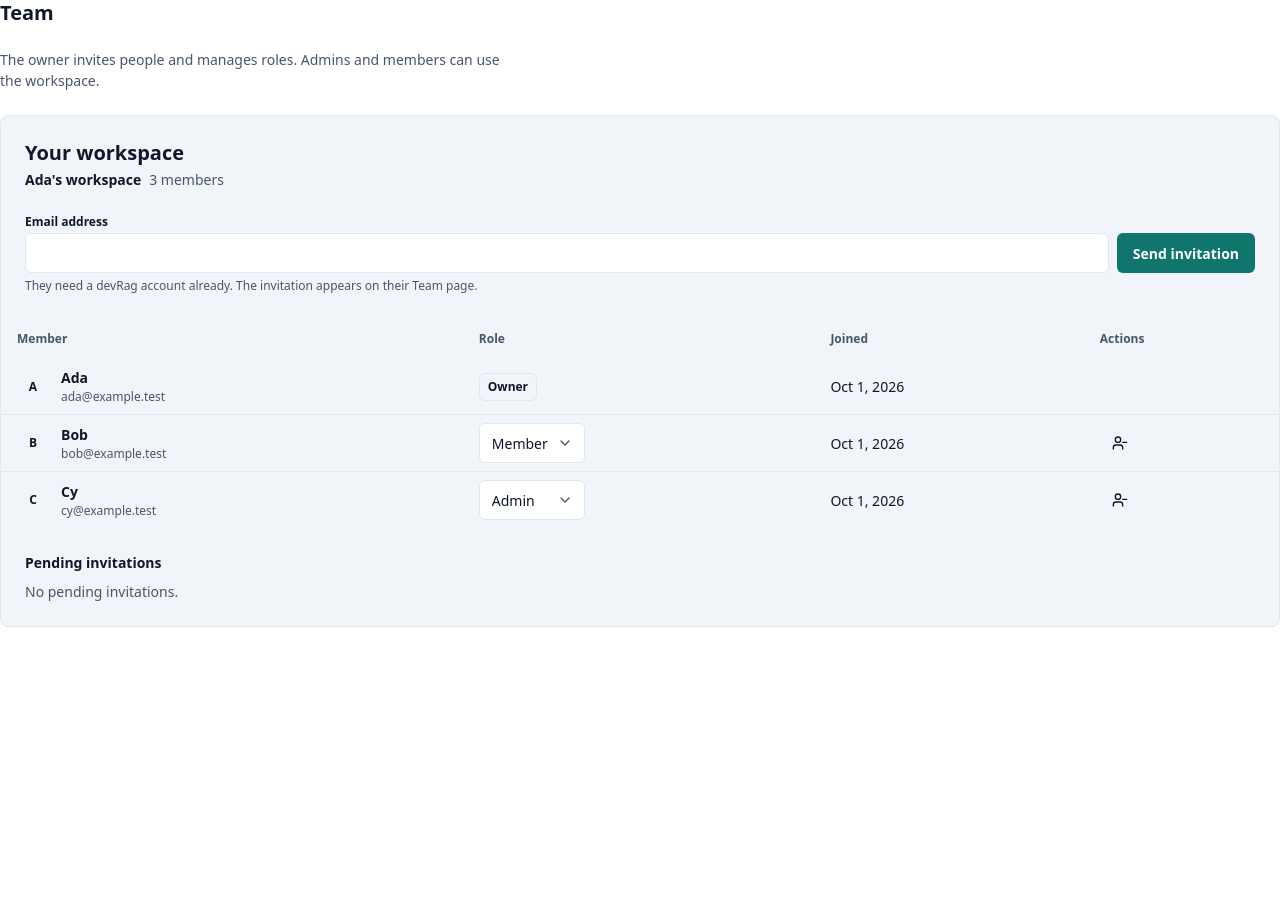
Scenario: role change › keeps the old value until confirmed, asks first with Keep current role focused, and sends the listed ids
Expected: the table with test id "members-table" is shown, x1=1 y1=319 x2=1279 y2=528
Select "Admin" in the dropdown named "Role for Bob" at (532, 443), box x1=479 y1=423 x2=585 y2=463
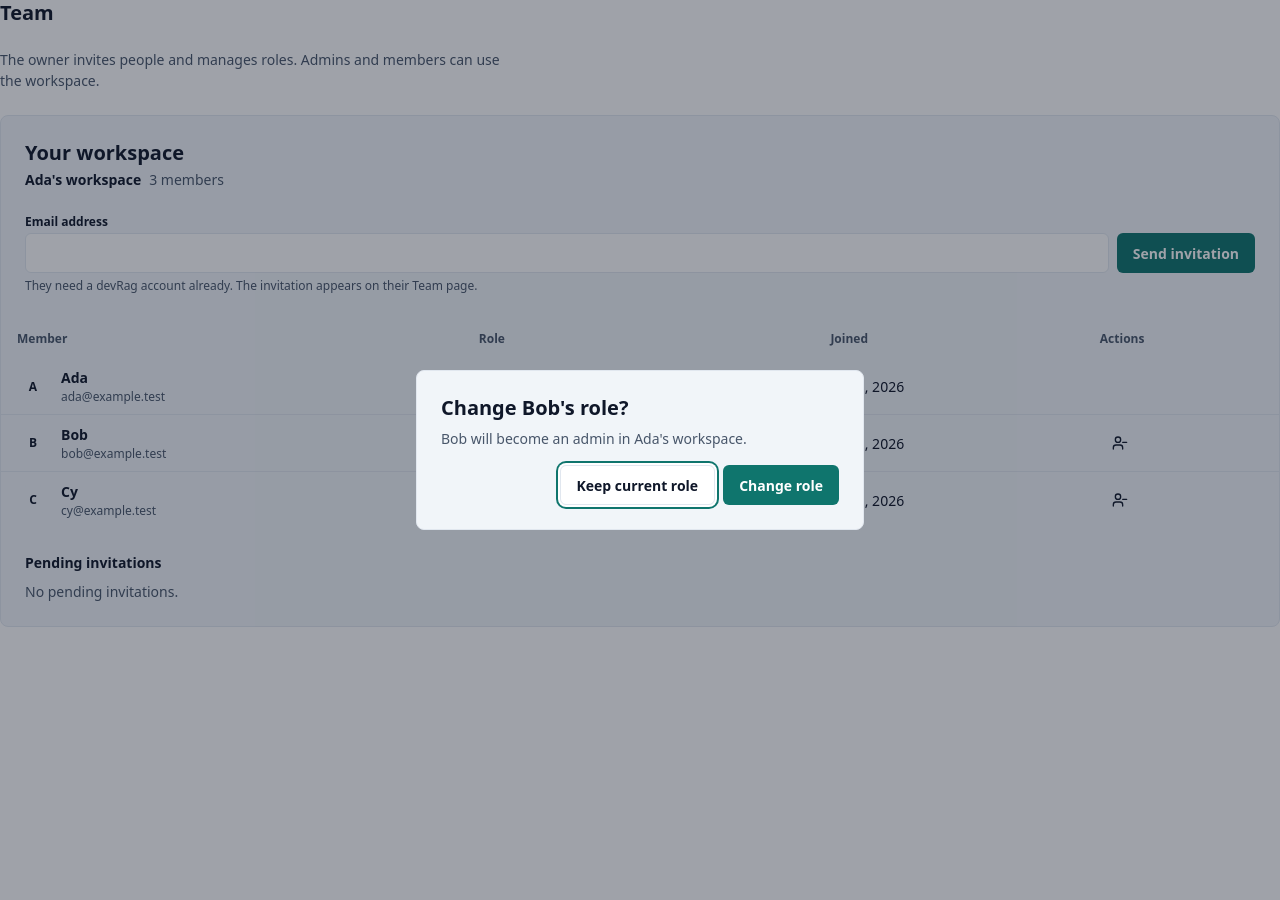
Now the heading "Change Bob's role?" is shown, box x1=441 y1=394 x2=628 y2=421
Now the text "Bob will become an admin in Ada's workspace." is shown, box x1=441 y1=429 x2=747 y2=448
Click the button "Change role" at (781, 485), box x1=723 y1=465 x2=839 y2=505
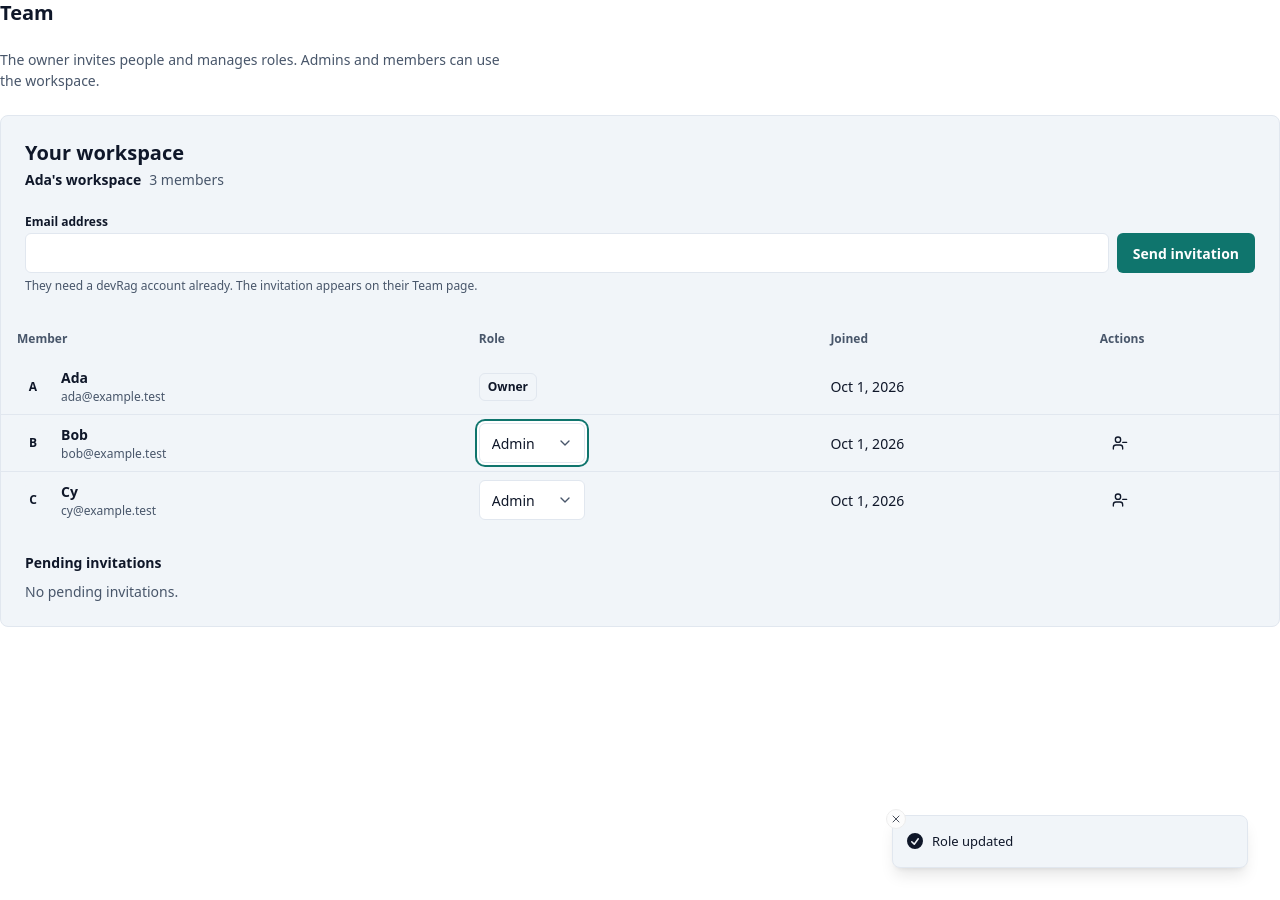
Now the text "Role updated" is shown, box x1=932 y1=832 x2=1013 y2=851
